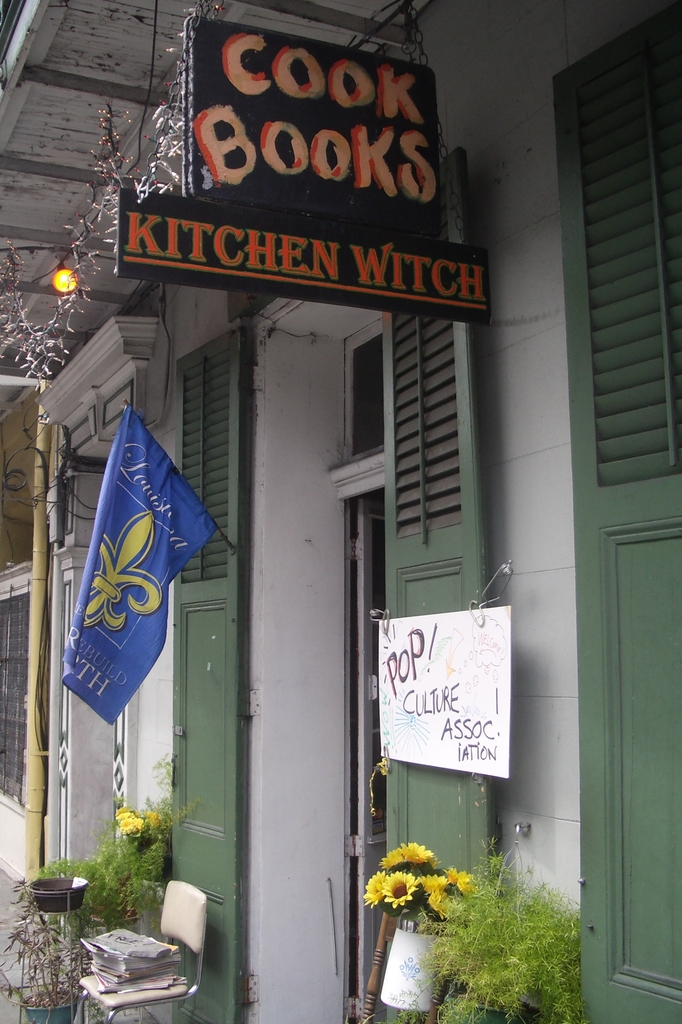door: (360, 535, 381, 977)
